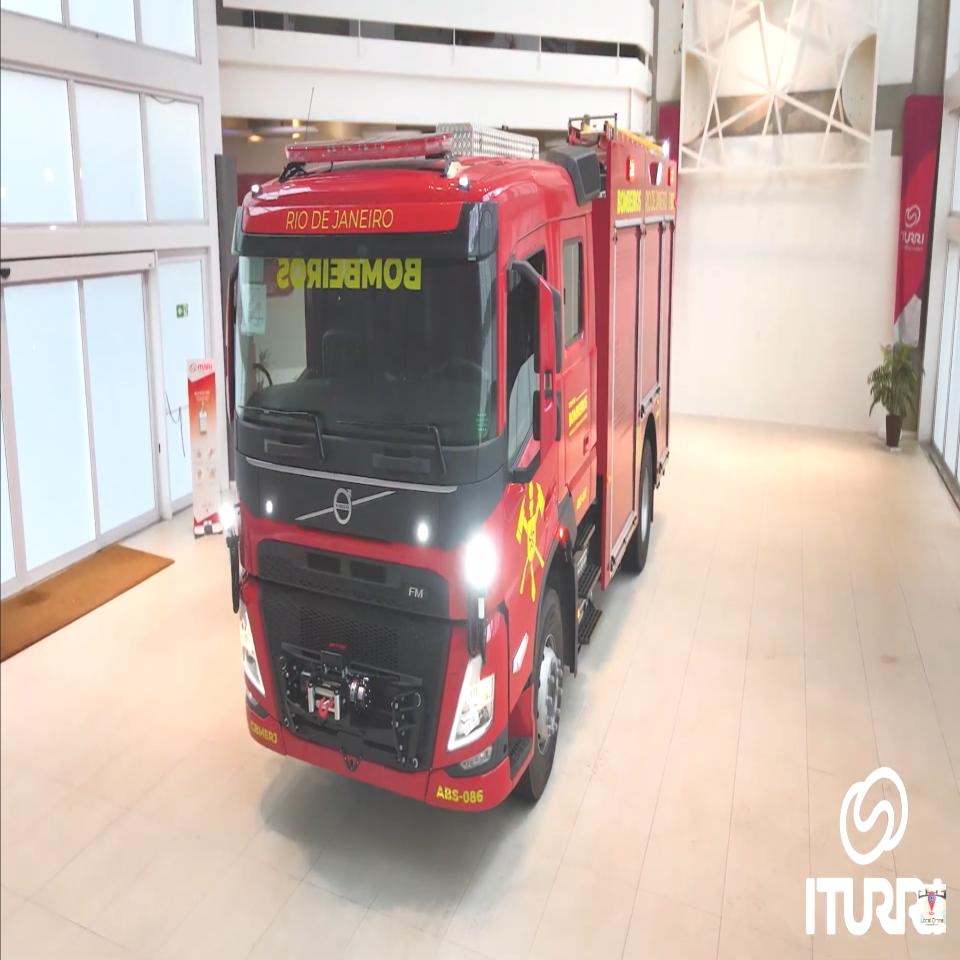bombeiro: (229, 108, 681, 812)
